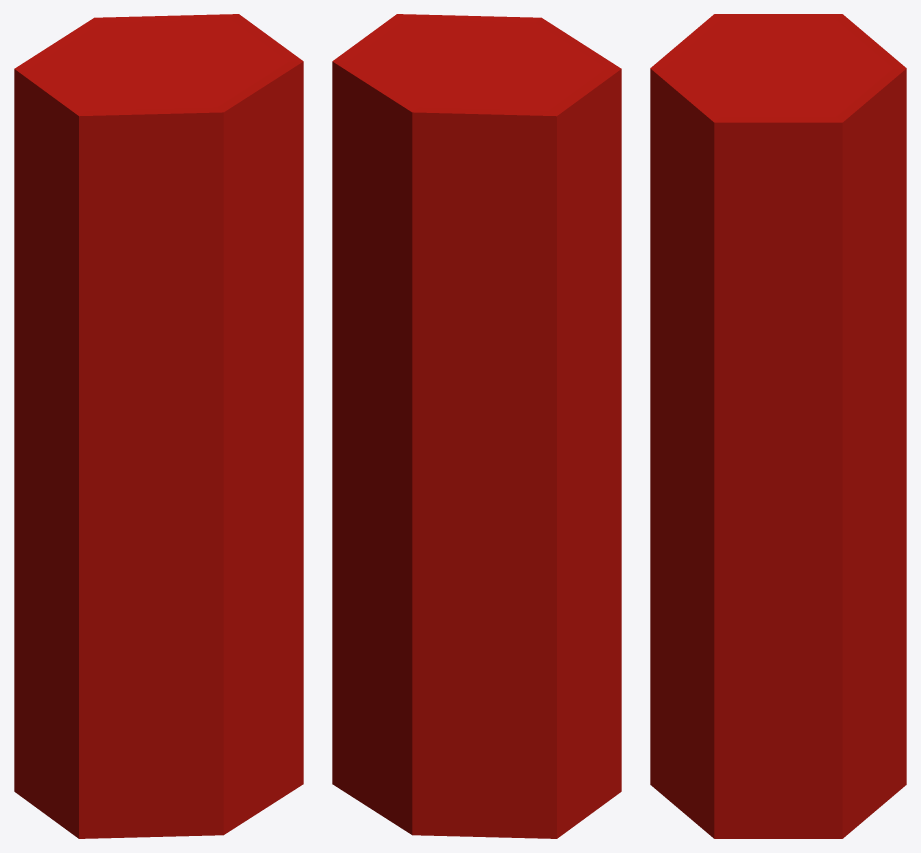
The picture shows the model from 3 angles, left to right: view 1: azimuth 30°, elevation 25°; view 2: azimuth 150°, elevation 25°; view 3: azimuth 270°, elevation 25°; orthographic projection.
Visible parts, largest first — view 1: Цилиндр, Цилиндр.001; view 2: Цилиндр, Цилиндр.001; view 3: Цилиндр, Цилиндр.001.
Part boxes in pixels (x1,y1,x2,y2): Цилиндр: (14, 19, 303, 838); Цилиндр.001: (14, 14, 303, 116); Цилиндр: (332, 19, 621, 838); Цилиндр.001: (332, 14, 621, 116); Цилиндр: (650, 19, 906, 838); Цилиндр.001: (650, 14, 906, 122).
Size of the model in its own units: 99.99 by 307 by 99.76.
